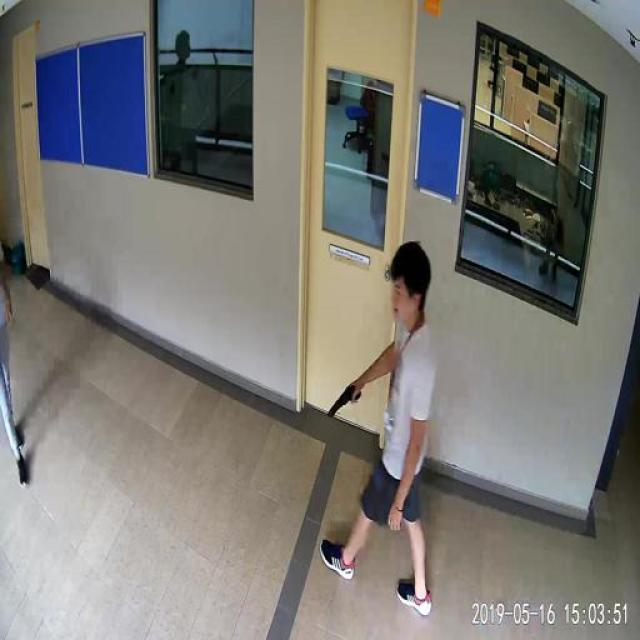Gun: (324, 359, 375, 425)
